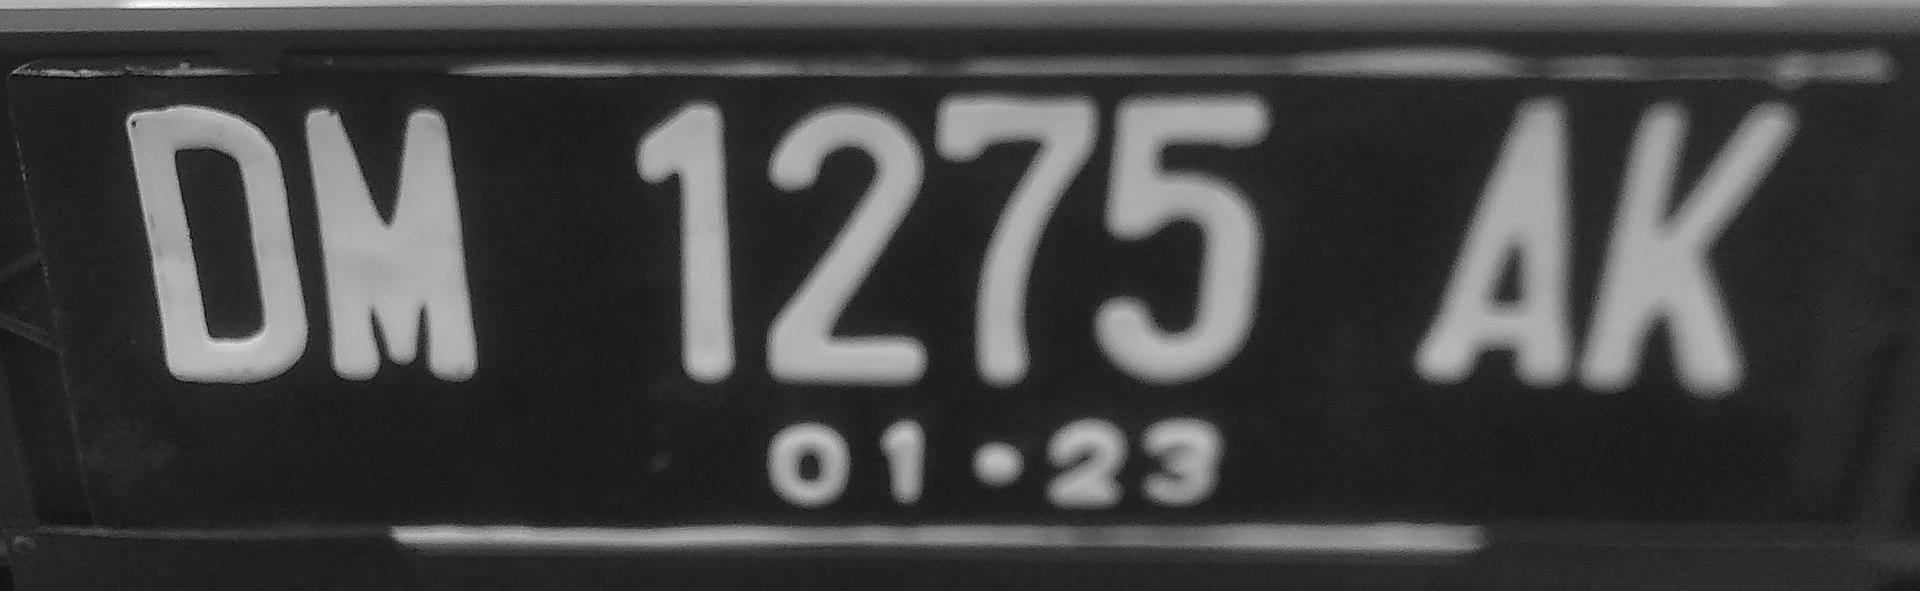1: (623, 97, 756, 404)
2: (740, 93, 931, 396)
5: (1101, 83, 1284, 390)
7: (927, 86, 1102, 395)
A: (1403, 94, 1577, 385)
D: (109, 95, 323, 398)
K: (1578, 91, 1836, 396)
M: (283, 86, 501, 392)
